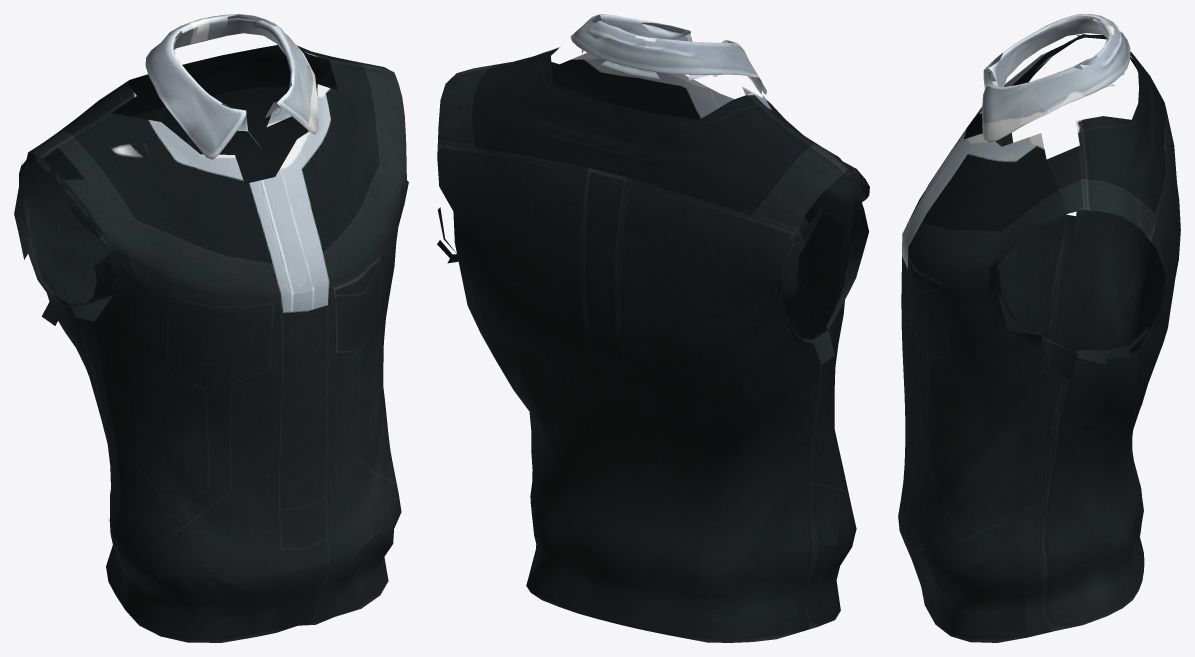
Rendered from estudiante1_torso.glb.
3 views of the same model, side by side, from view 1: azimuth 30°, elevation 25°; view 2: azimuth 150°, elevation 25°; view 3: azimuth 270°, elevation 25° (orthographic). The views are drawn at different scales.
Visible parts, largest first — view 1: Object_23.005; view 2: Object_23.005; view 3: Object_23.005.
Boxes of the visible parts, x1,y1,x2,y2 form: Object_23.005: (14, 14, 408, 642); Object_23.005: (437, 14, 869, 642); Object_23.005: (898, 14, 1180, 642).
Bounding box in the file's own units: 0.403 × 0.5882 × 0.2711.
1 material, 1 textured.
